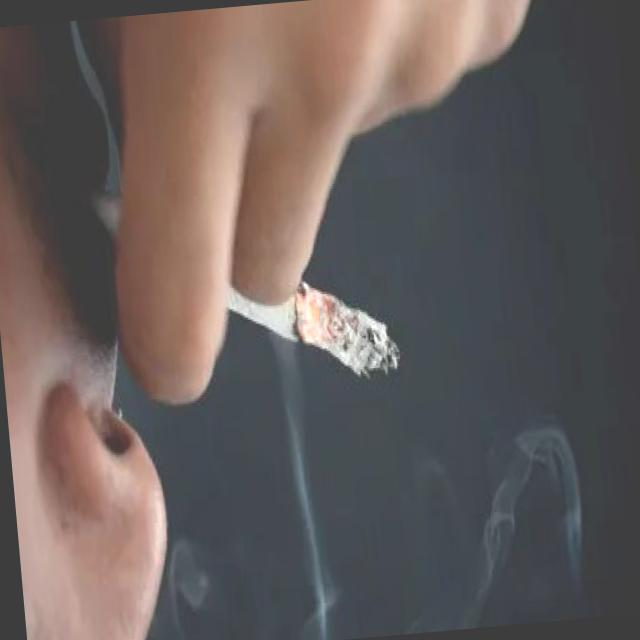smoke: (217, 252, 406, 395)
